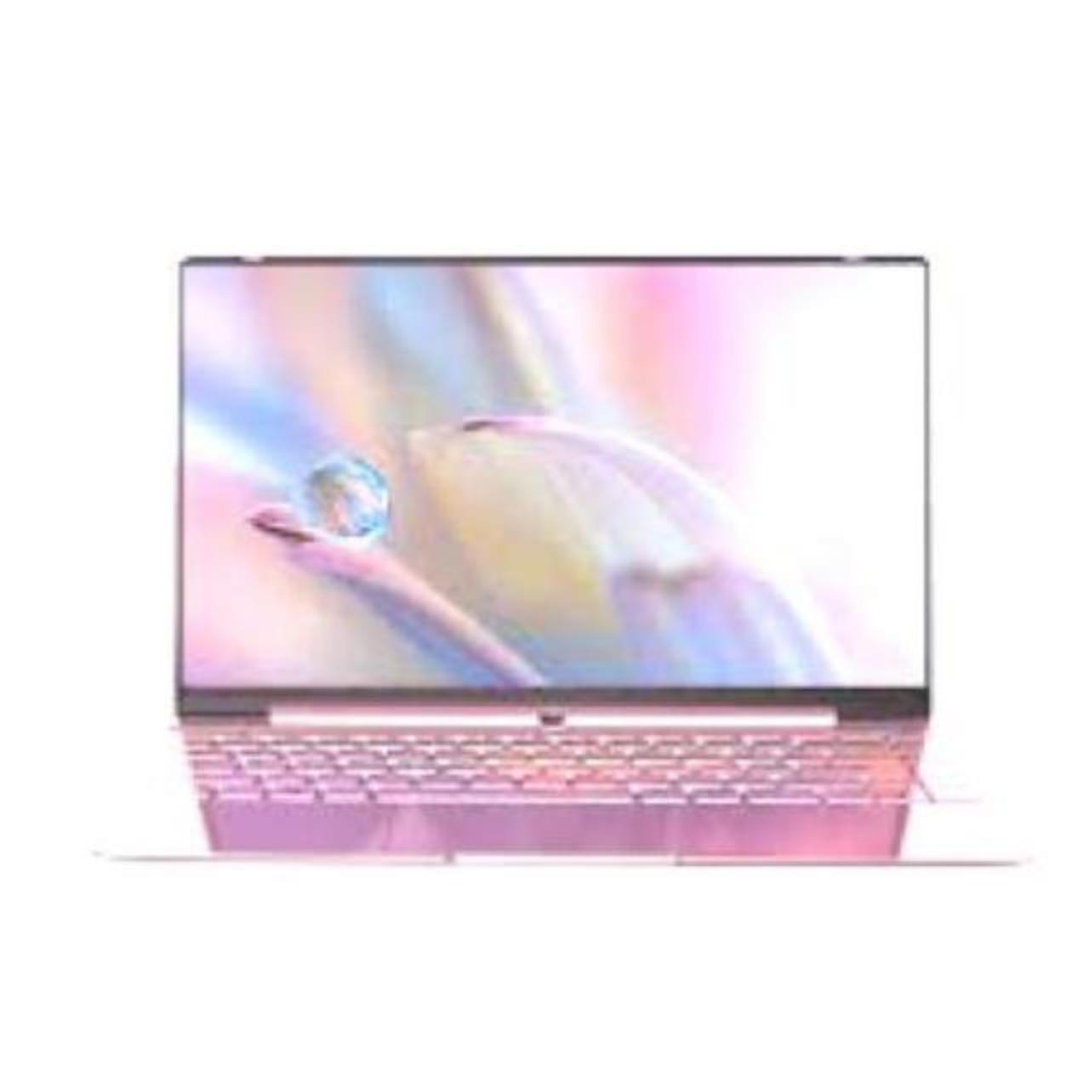laptop: (29, 224, 1060, 940)
